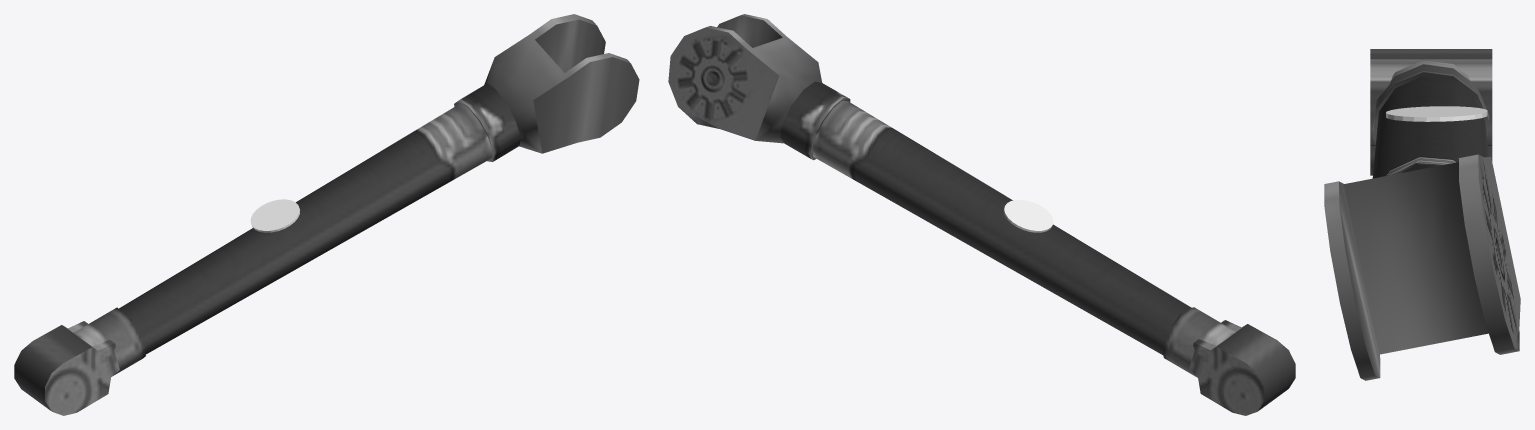
The model's file is rocker_rear_left_link.dae.
The picture shows the model from 3 angles, left to right: view 1: azimuth 30°, elevation 25°; view 2: azimuth 150°, elevation 25°; view 3: azimuth 270°, elevation 25°; orthographic projection. The views are drawn at different scales.
Visible parts, largest first — view 1: rocker_rear_left_link; view 2: rocker_rear_left_link; view 3: rocker_rear_left_link.
Boxes of the visible parts, x1,y1,x2,y2 form: rocker_rear_left_link: (14, 14, 639, 415); rocker_rear_left_link: (668, 14, 1295, 415); rocker_rear_left_link: (1324, 49, 1520, 380).
Bounding box in the file's own units: 0.8521 × 0.1235 × 0.3484.
2 materials, 1 textured.
